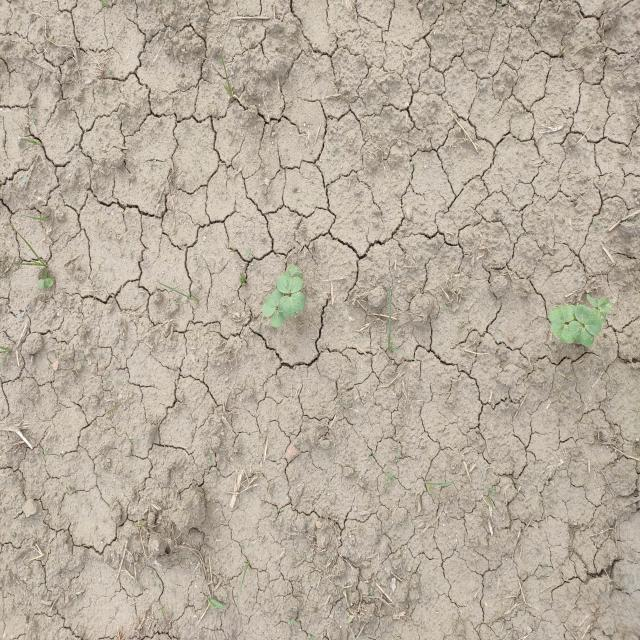seedling_s2: (574, 305, 601, 336), (278, 291, 305, 318), (567, 320, 595, 346), (262, 289, 284, 317), (551, 318, 575, 343), (276, 276, 303, 294), (548, 304, 575, 322), (587, 295, 612, 312), (270, 310, 284, 327), (37, 277, 54, 289)
